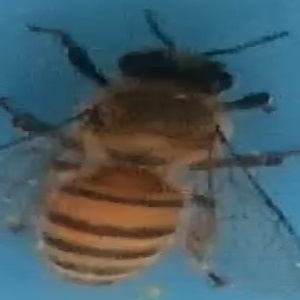bee: (10, 10, 300, 289)
